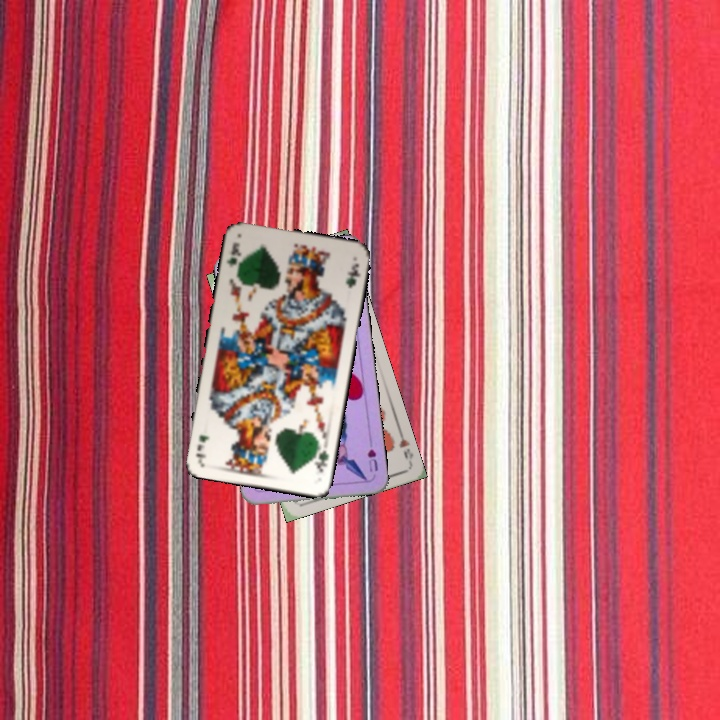GK: (310, 442, 332, 474), (223, 238, 244, 270)
H9: (395, 426, 416, 462)
HU: (363, 445, 380, 474)
